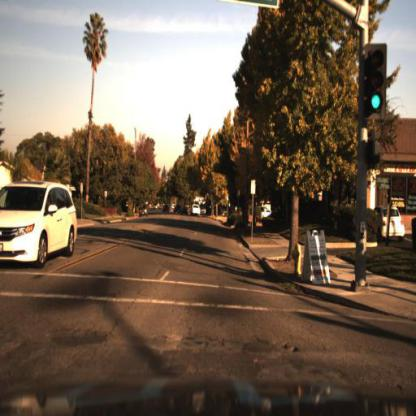car: (1, 180, 78, 271), (137, 203, 149, 222), (191, 204, 204, 220)
